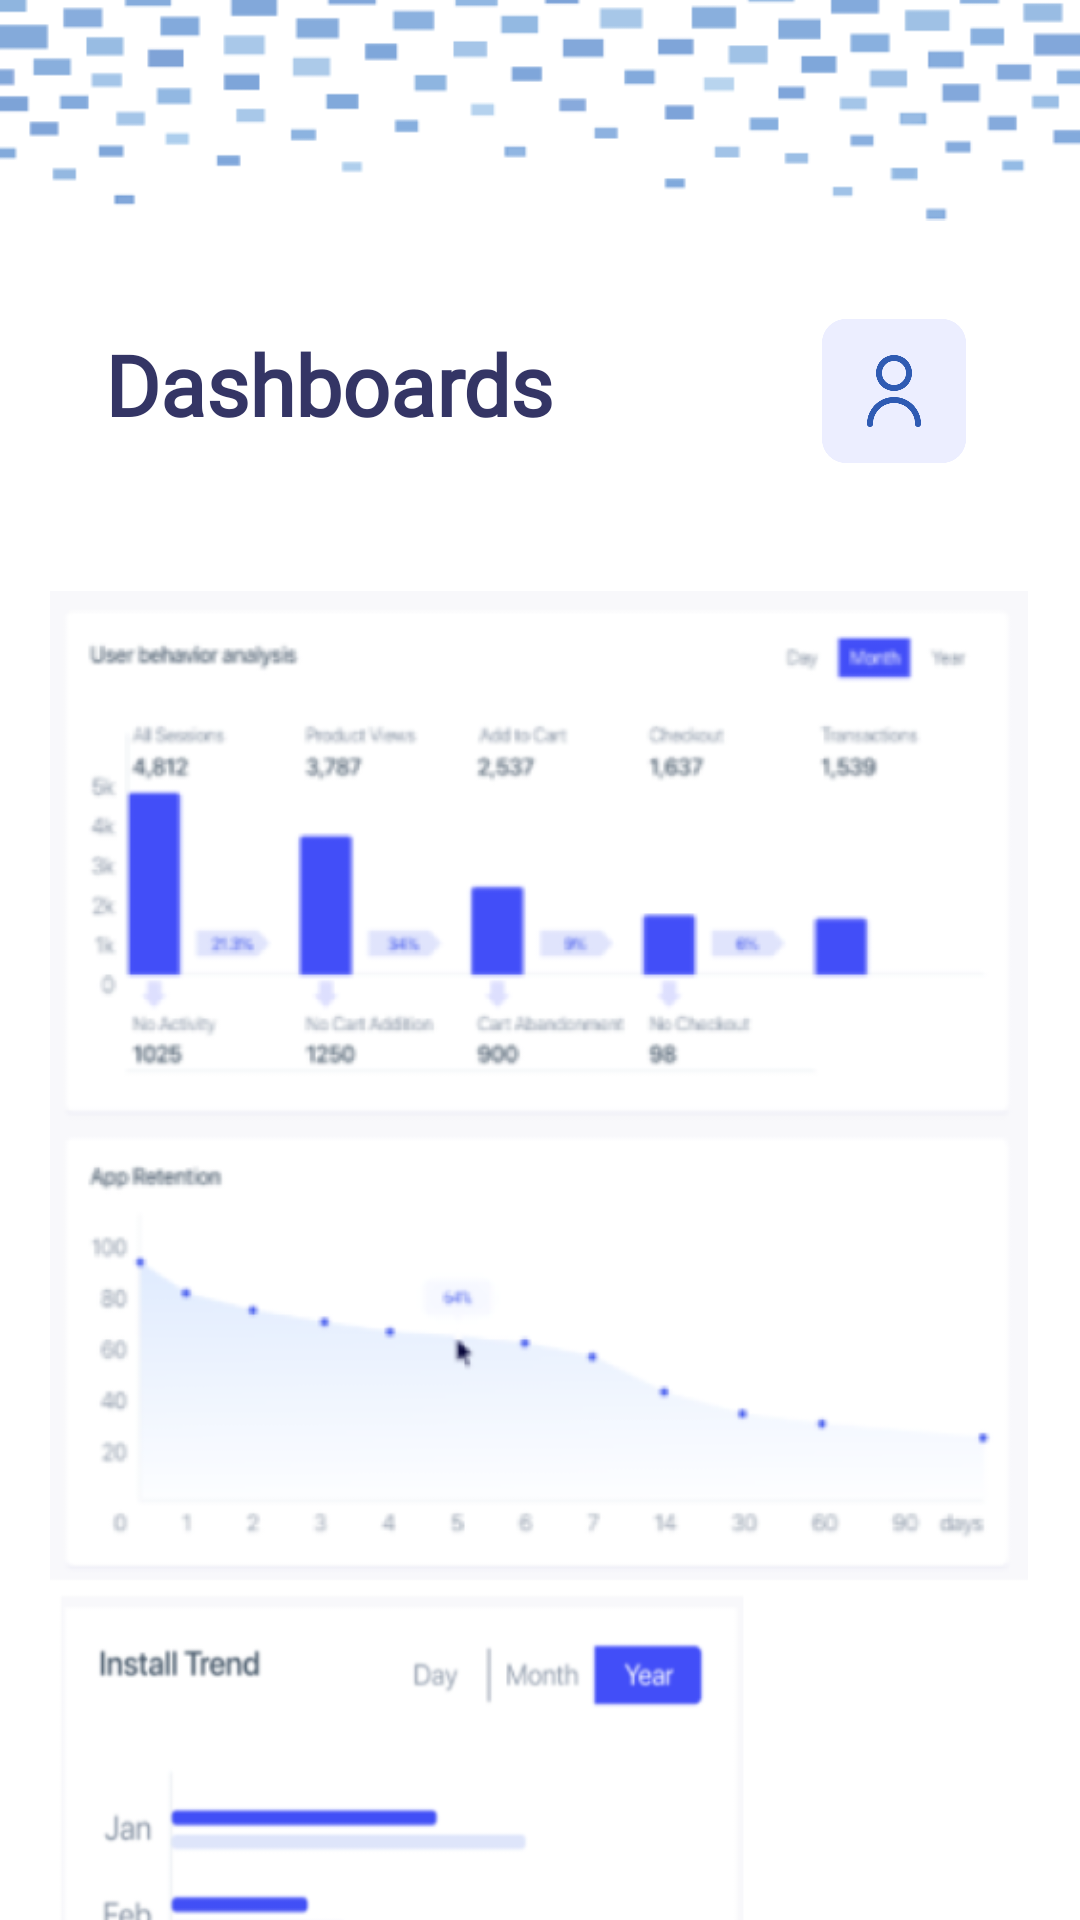

Icons on this 1080 × 1920 Android screen, each with the point to tap as (x=x, y=y):
perfil: (x=894, y=391)
